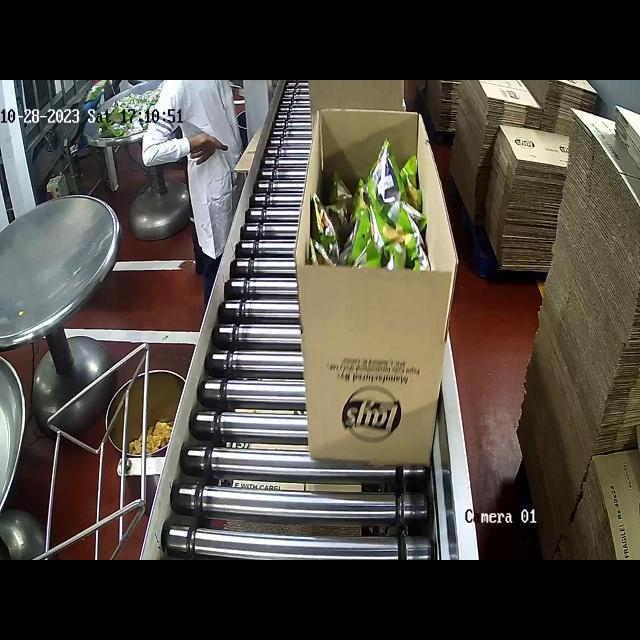yogurt: (324, 152, 439, 264)
